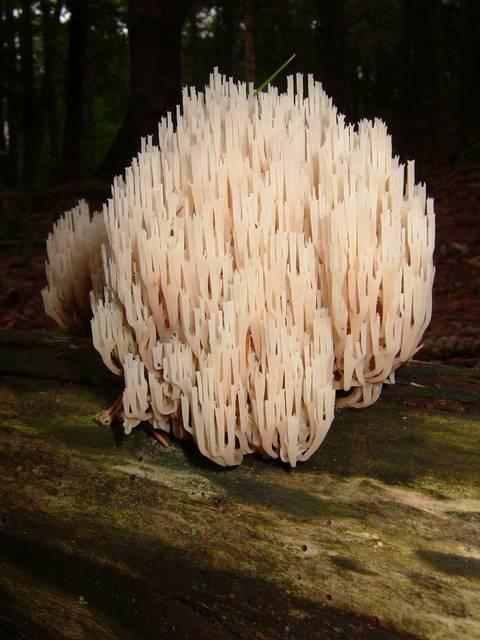Edible Mushroom: (40, 65, 438, 469)
